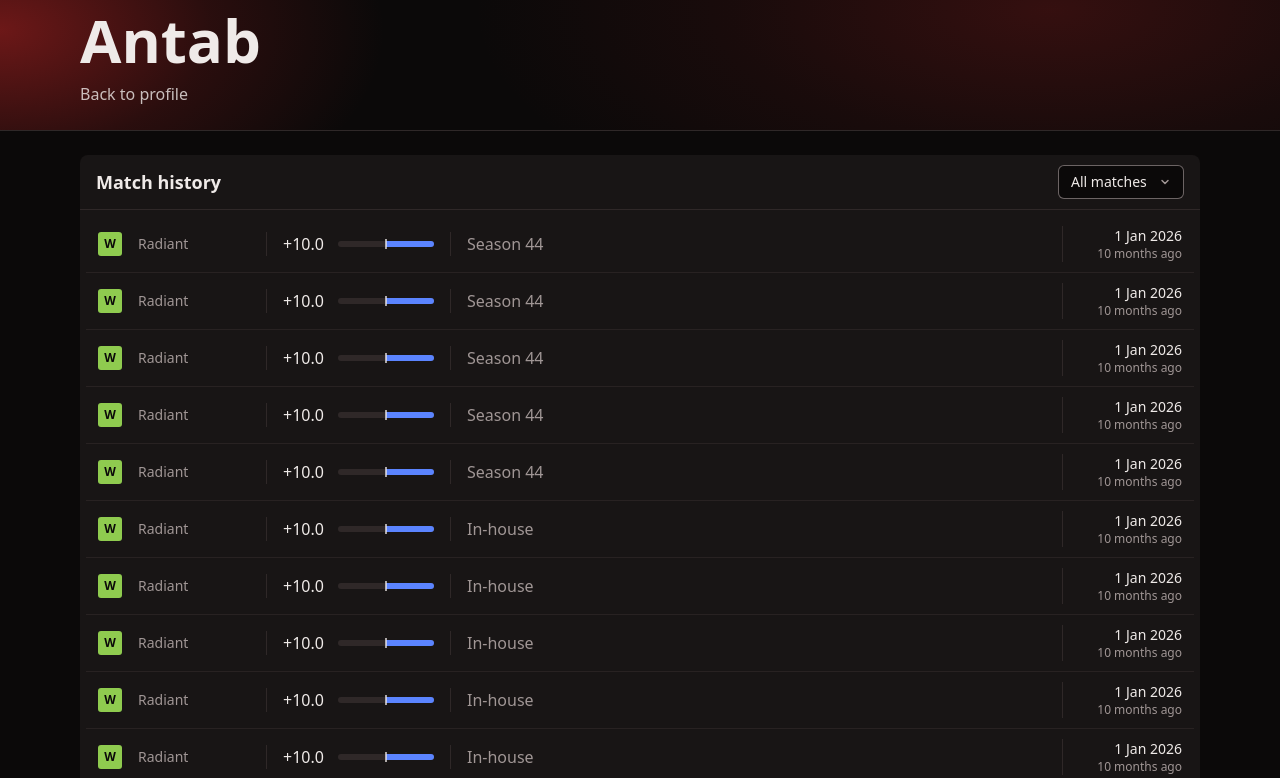
Test: filters to one season and goes back to page 1
This screenshot has width=1280, height=778.
Select "Season 44" in the dropdown named "Season" at (1121, 182), box x1=1058 y1=165 x2=1184 y2=199
(page scrolled)
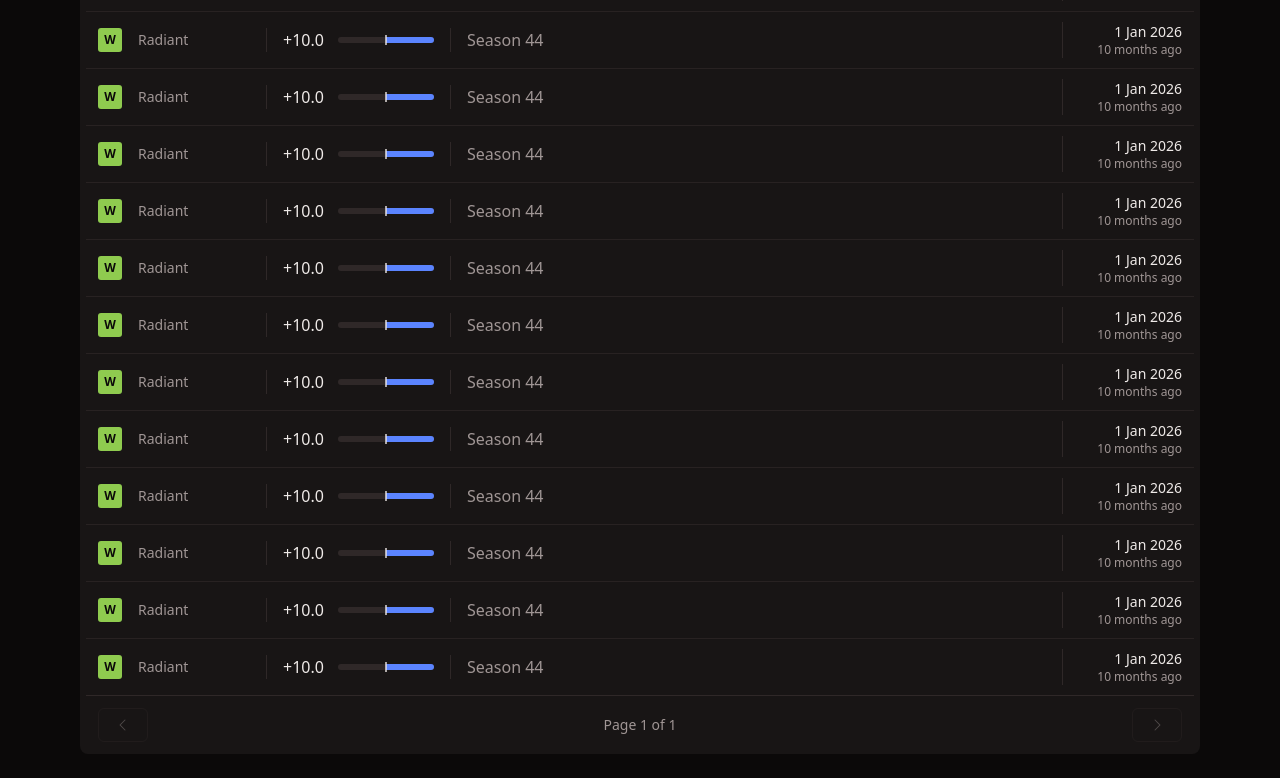
Expected: the text "Page 1 of 1" is shown, x1=604 y1=715 x2=677 y2=735
